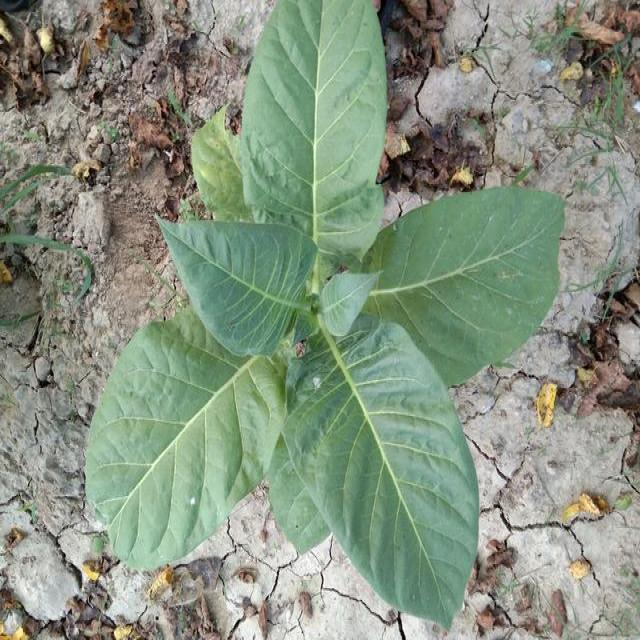crop: (90, 0, 550, 621)
